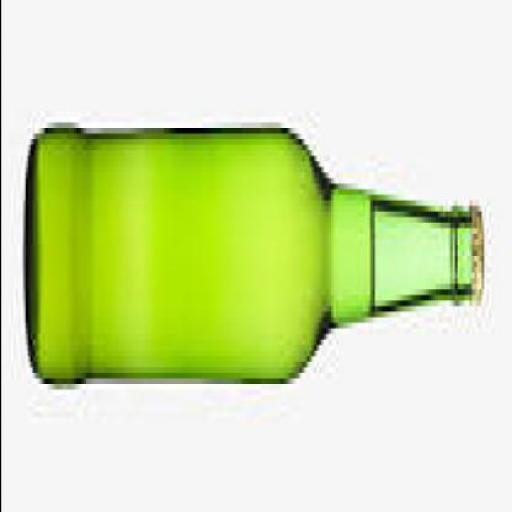glass: (26, 134, 474, 395)
metal: (470, 217, 486, 306)
